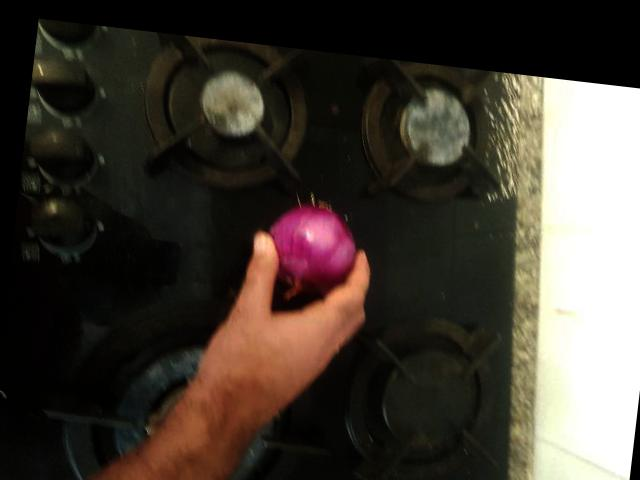onion: (426, 158, 501, 249)
